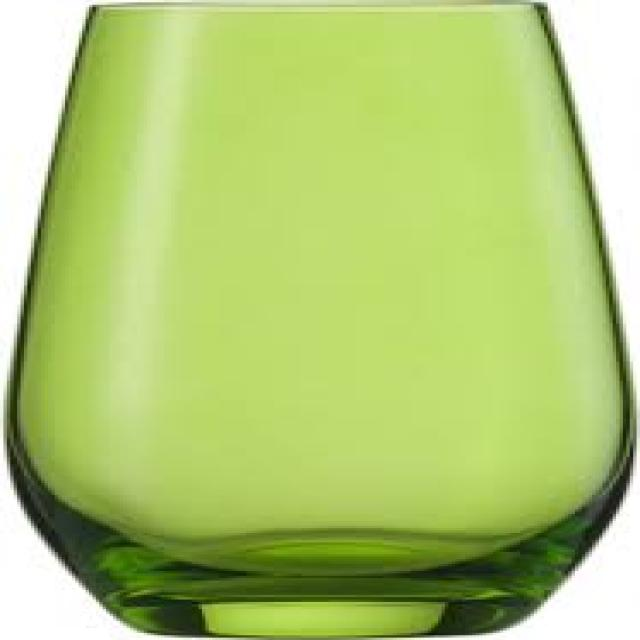glass: (4, 3, 637, 638)
